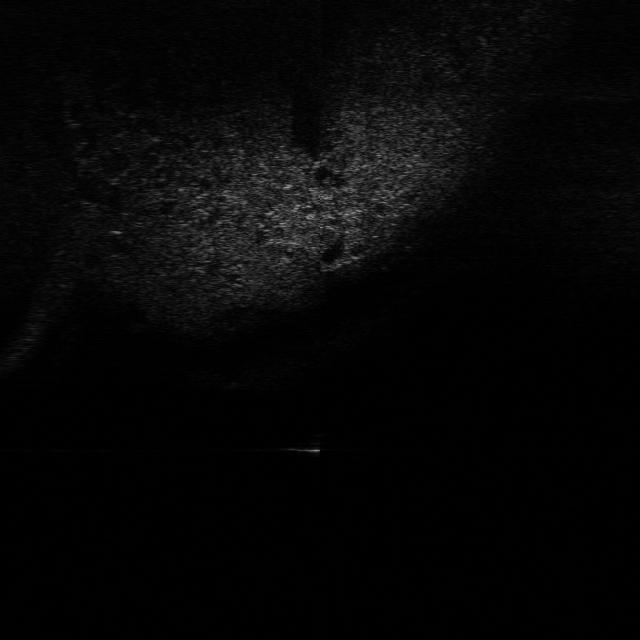cube: (289, 432, 333, 457)
